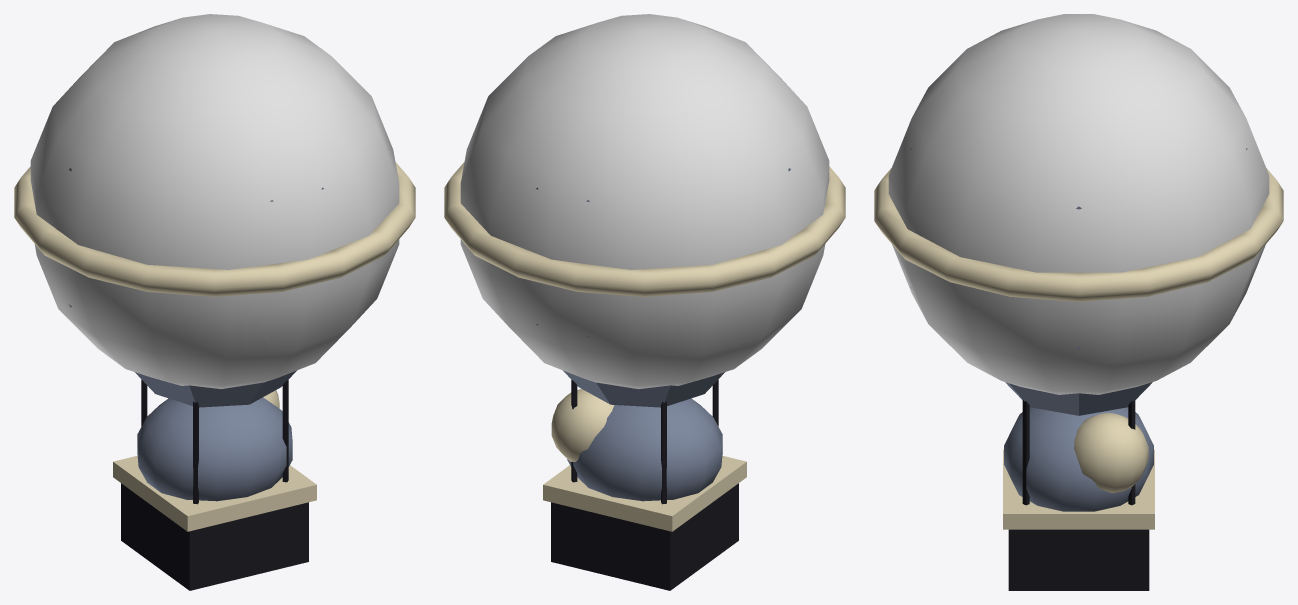
The model's file is Balloon_1.fbx.
3 renders of one model, left to right at view 1: azimuth 30°, elevation 25°; view 2: azimuth 150°, elevation 25°; view 3: azimuth 270°, elevation 25°, orthographic.
Parts seen in each view (by area): view 1: Balloon_1; view 2: Balloon_1; view 3: Balloon_1.
Part boxes in pixels (bbox=[...]): Balloon_1: bbox=[14, 14, 415, 590]; Balloon_1: bbox=[444, 14, 845, 590]; Balloon_1: bbox=[874, 14, 1283, 590].
Bounding box in the file's own units: 0.71 × 1 × 0.6992.
